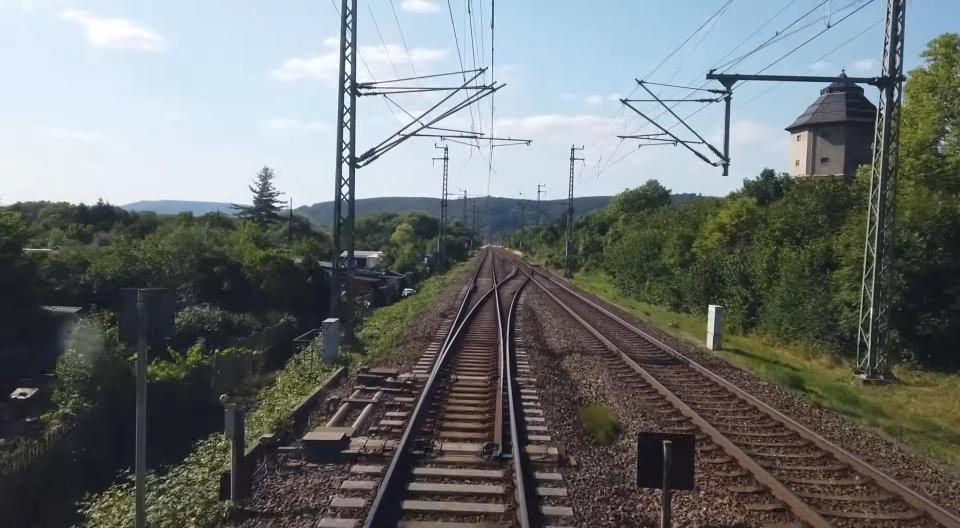Plant: (580, 402, 620, 444)
